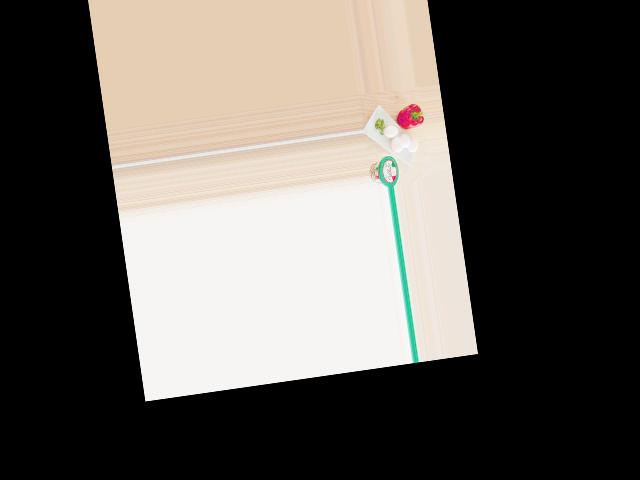bell_pepper: (395, 100, 425, 134)
